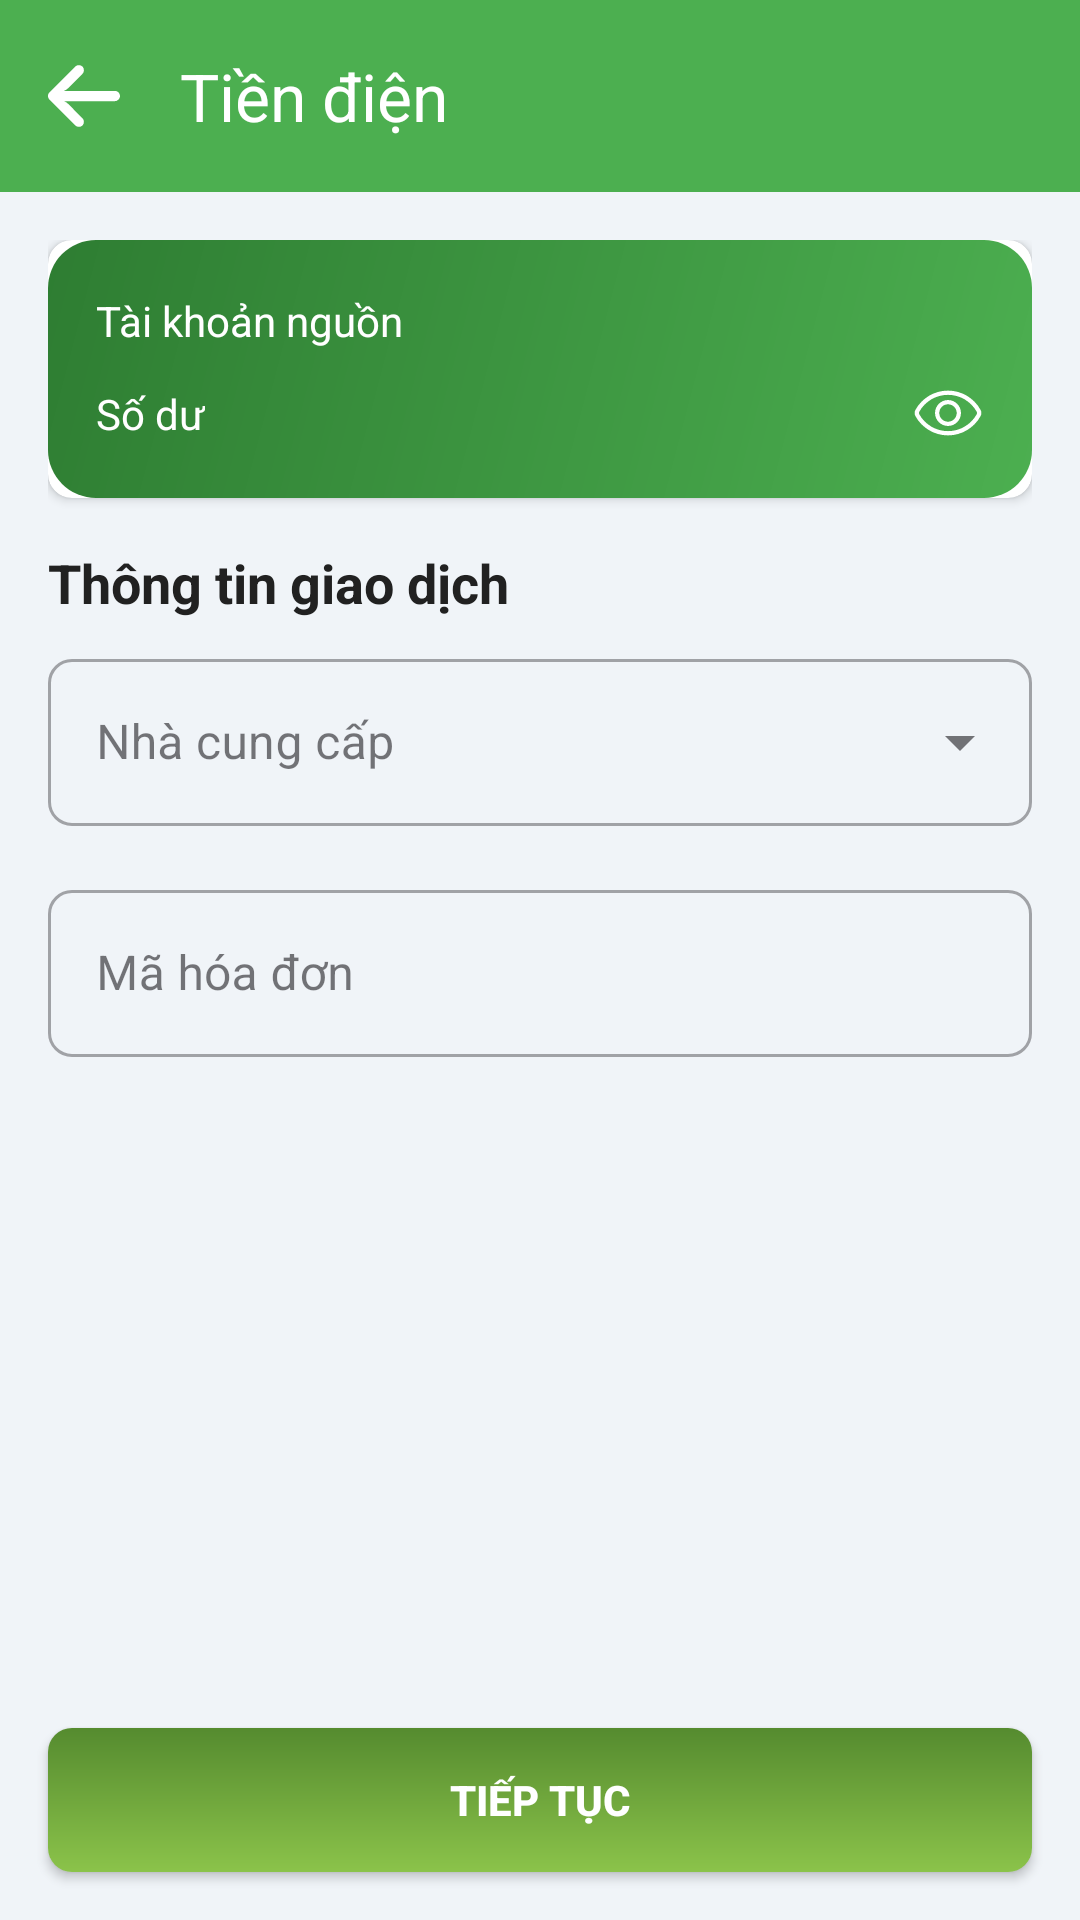

Locate icon controls on the screen. Image size 1080w x 1920h, boxes as detection(x1, y1, x2, y2).
Toggle balance: detection(914, 390, 982, 436)
